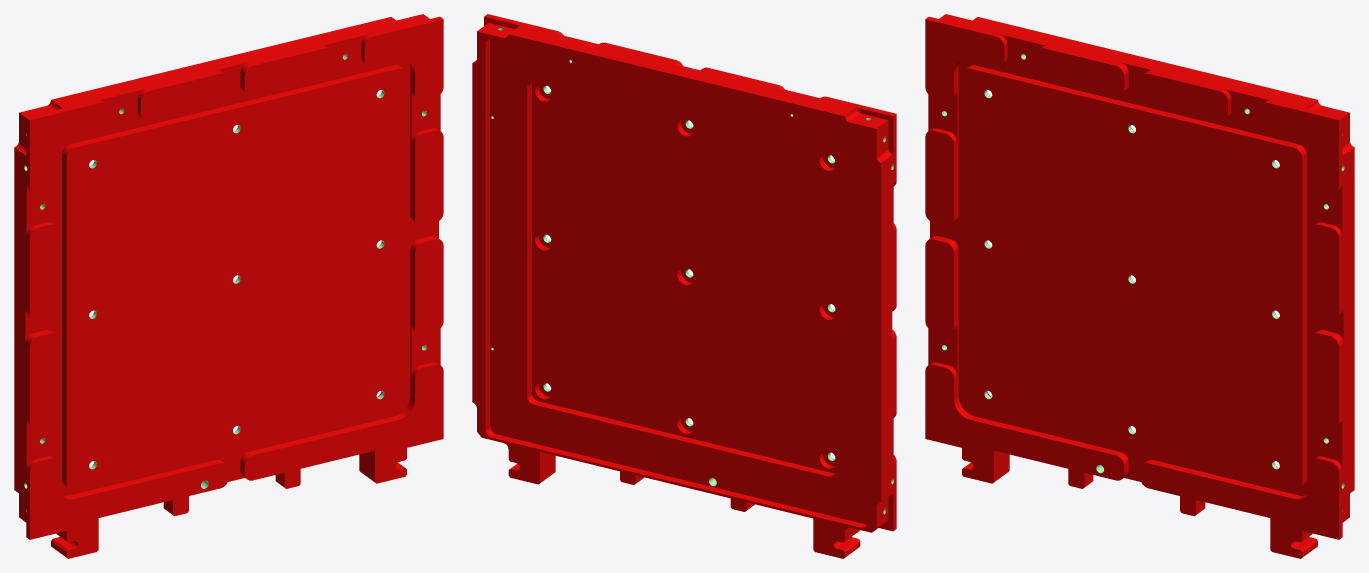
The model's file is 3ZY-R8K8B.par.glb.
The picture shows the model from 3 angles, left to right: view 1: azimuth 30°, elevation 25°; view 2: azimuth 150°, elevation 25°; view 3: azimuth 330°, elevation 25°; orthographic projection.
Parts seen in each view (by area): view 1: 3ZY-R8K8B.par; view 2: 3ZY-R8K8B.par; view 3: 3ZY-R8K8B.par.
Part boxes in pixels (x1,y1,x2,y2): 3ZY-R8K8B.par: [14, 14, 443, 558]; 3ZY-R8K8B.par: [472, 14, 896, 558]; 3ZY-R8K8B.par: [925, 14, 1354, 558].
Size of the model in its own units: 0.259 by 0.268 by 0.017.
